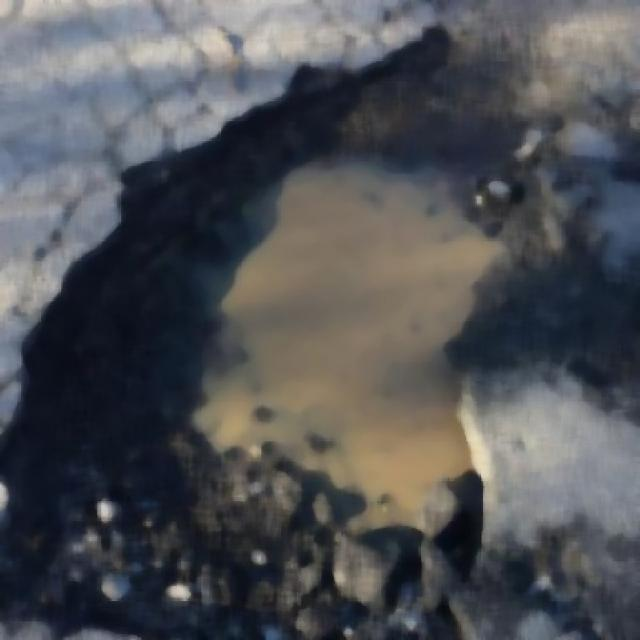Pothole: (155, 168, 474, 474)
